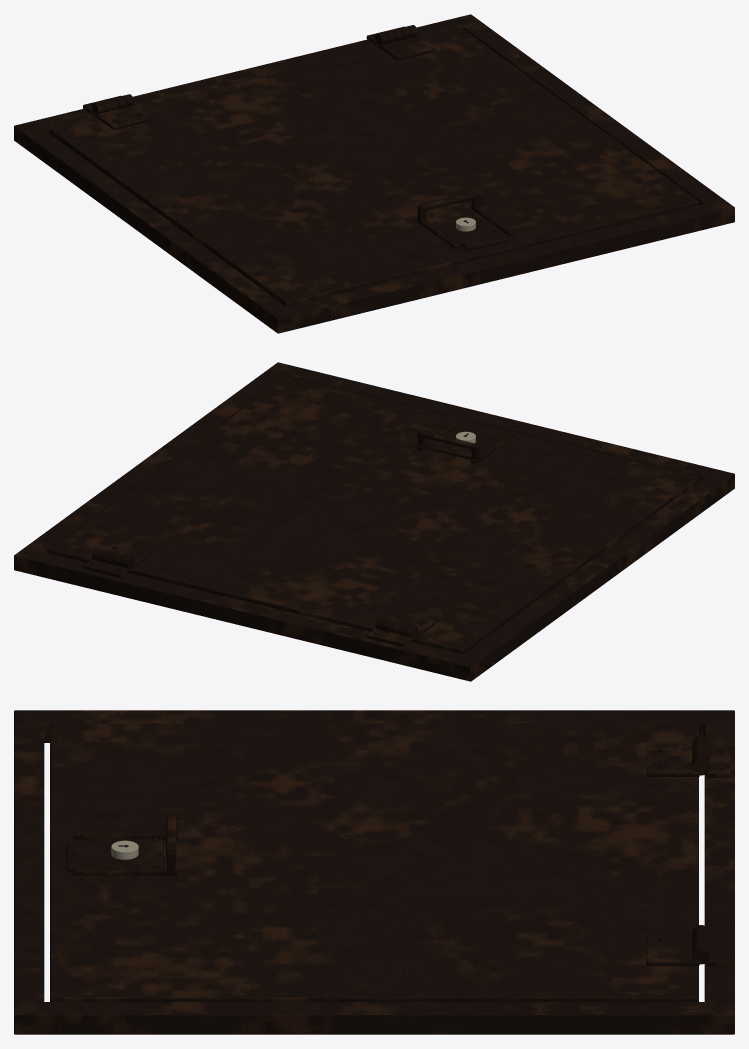
The model's file is RustyHatch.fbx.
3 renders of one model, top to bottom at view 1: azimuth 30°, elevation 25°; view 2: azimuth 150°, elevation 25°; view 3: azimuth 270°, elevation 25°, orthographic. The views are drawn at different scales.
Parts seen in each view (by area): view 1: Lid, Frame, Lock_Plate, Hinge_Leaf.001, Hinge_Leaf; view 2: Lid, Frame, Lock_Plate; view 3: Lid, Frame, Lock_Plate, Hinge_Leaf.001, Hinge_Leaf, Handle_Foot.001, Handle_Foot, Front_Latch_Tab, Hinge_FramePlate.001, Hinge_FramePlate.
Part boxes in pixels (box(x1,y1,x2,y2)): Lid: box(49, 28, 699, 306); Frame: box(14, 14, 734, 333); Lock_Plate: box(430, 212, 502, 244); Hinge_Leaf.001: box(378, 35, 435, 60); Hinge_Leaf: box(94, 105, 151, 129); Lid: box(49, 376, 699, 654); Frame: box(14, 362, 734, 681); Lock_Plate: box(428, 427, 500, 459); Lid: box(50, 723, 698, 1001); Frame: box(14, 710, 734, 1034); Lock_Plate: box(88, 839, 163, 867); Hinge_Leaf.001: box(646, 936, 699, 965); Hinge_Leaf: box(646, 747, 699, 776); Handle_Foot.001: box(73, 867, 177, 875); Handle_Foot: box(73, 831, 177, 839); Front_Latch_Tab: box(66, 841, 89, 871); Hinge_FramePlate.001: box(707, 937, 730, 966); Hinge_FramePlate: box(707, 748, 730, 777).
Size of the model in its own units: 100 by 9.45 by 100.
